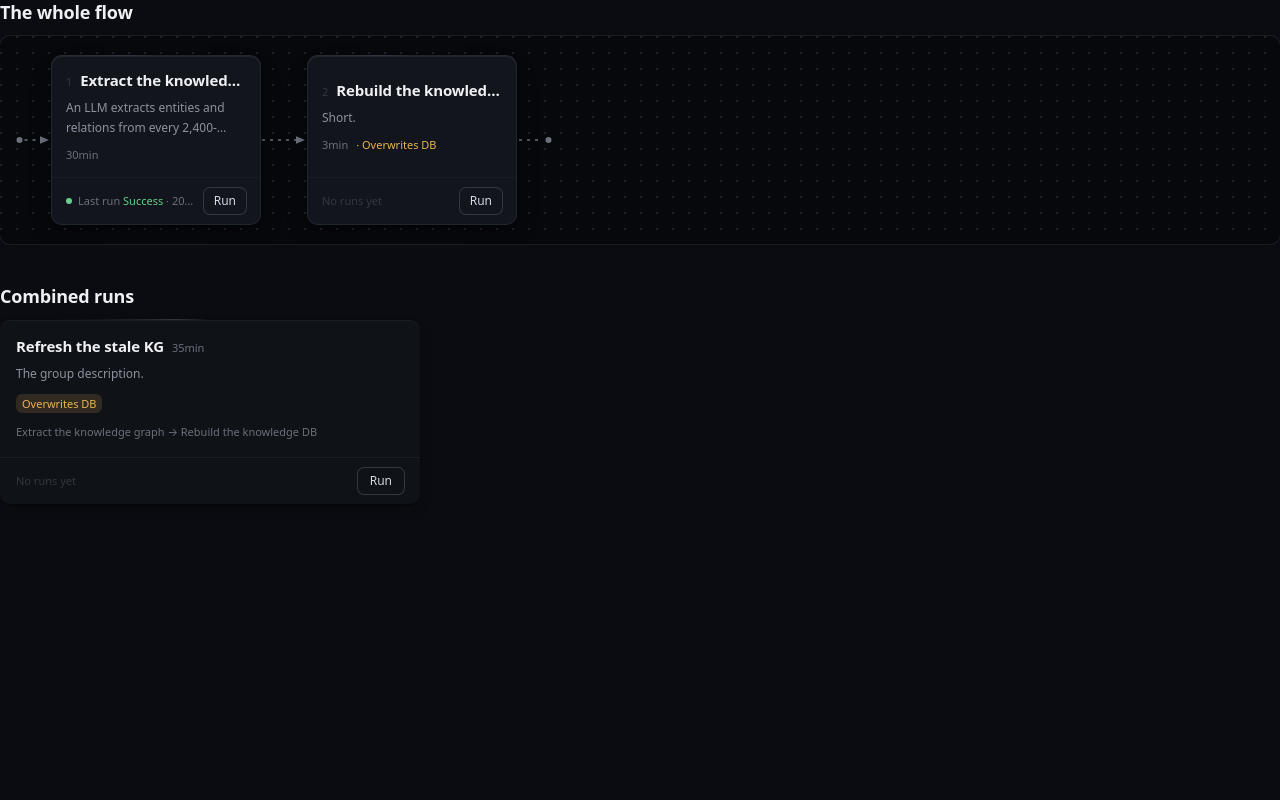
StepDetail — the full text of a truncated description › pressing the node body gives the full text
Click the button "Extract the knowledge graph" at (156, 117), box [52, 56, 260, 177]
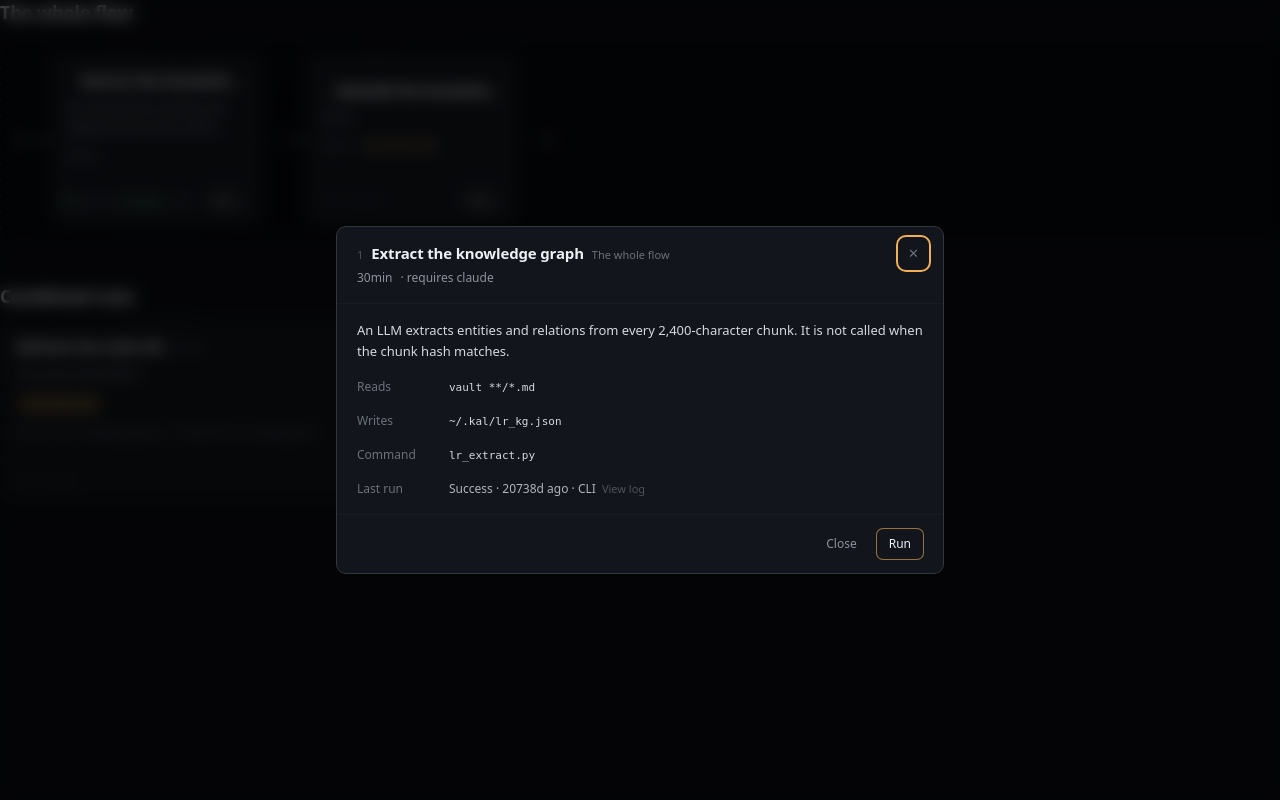
Expected: the dialog shows "It is not called", [357, 321, 923, 360]
